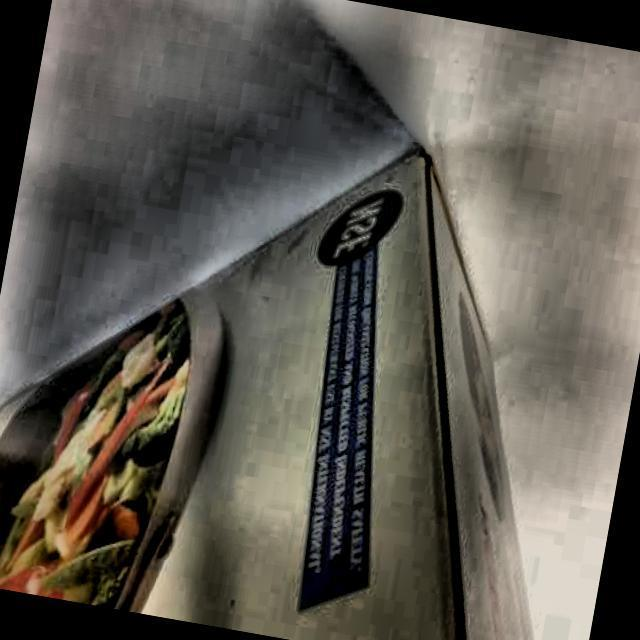cardboard: (0, 78, 633, 640)
